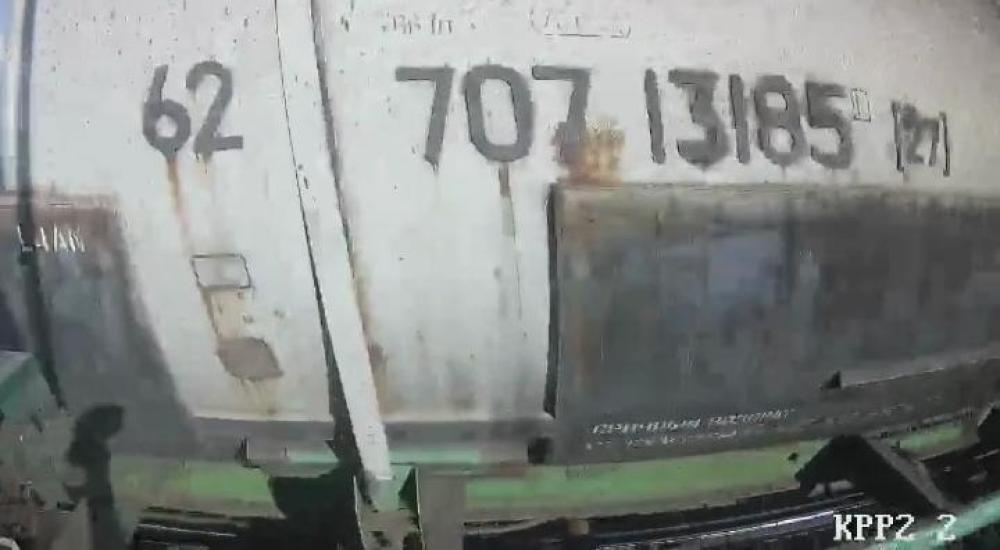Wagon-number: (393, 58, 861, 176)
